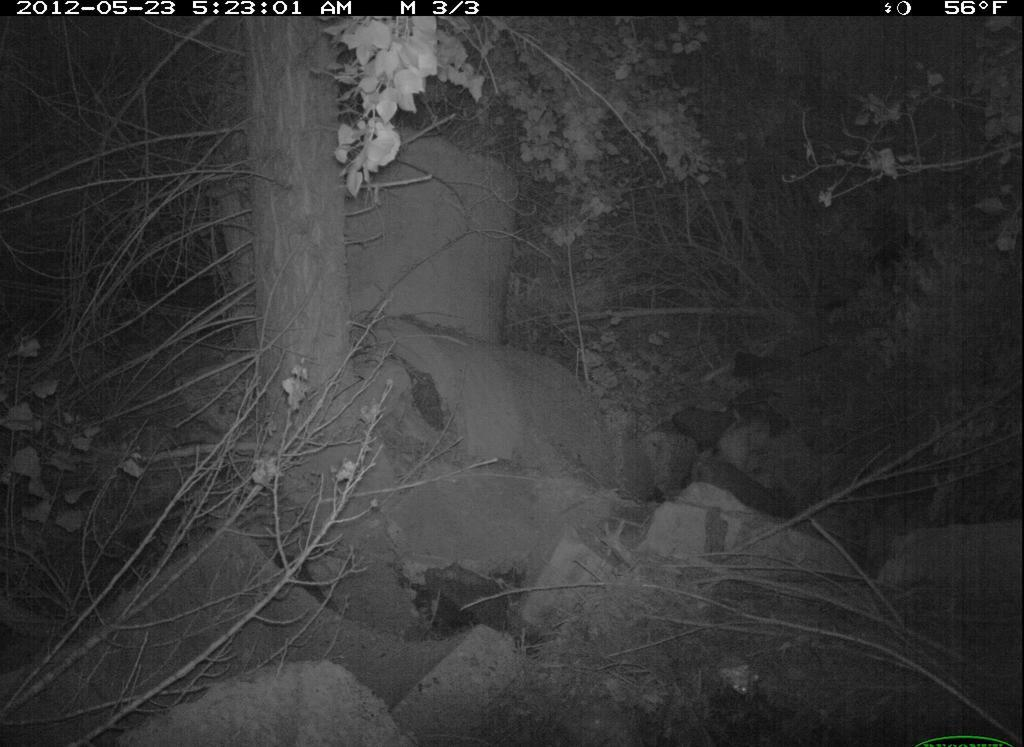bobcat: (712, 400, 781, 506)
